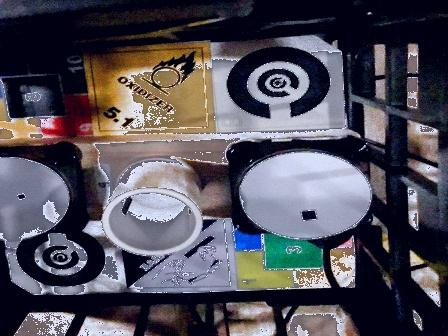corrosive: (122, 218, 239, 296)
oxidizer: (81, 41, 219, 135)
